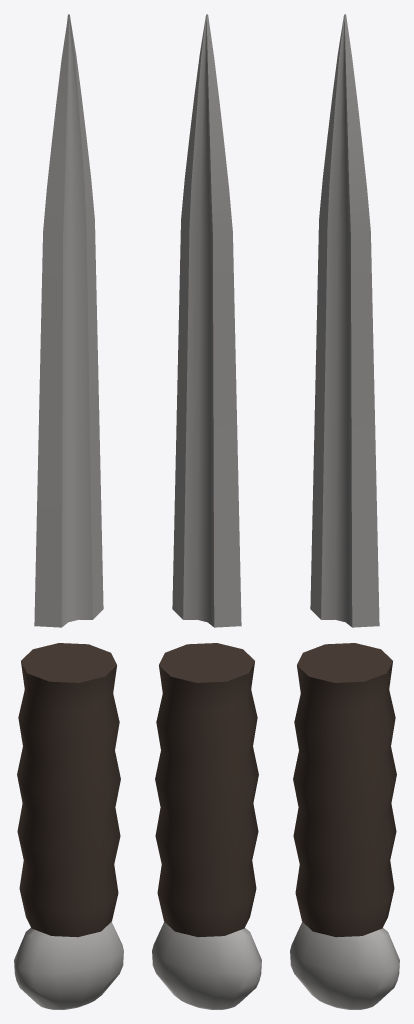
The model's file is cutpurse_knife.glb.
The picture shows the model from 3 angles, left to right: view 1: azimuth 30°, elevation 25°; view 2: azimuth 150°, elevation 25°; view 3: azimuth 330°, elevation 25°; orthographic projection.
Visible parts, largest first — view 1: cutpurse_knife; view 2: cutpurse_knife; view 3: cutpurse_knife.
Part boxes in pixels (bbox=[...]): cutpurse_knife: bbox=[14, 14, 123, 1009]; cutpurse_knife: bbox=[152, 14, 261, 1009]; cutpurse_knife: bbox=[290, 14, 399, 1009].
Size of the model in its own units: 0.0355 by 0.3282 by 0.0299.
